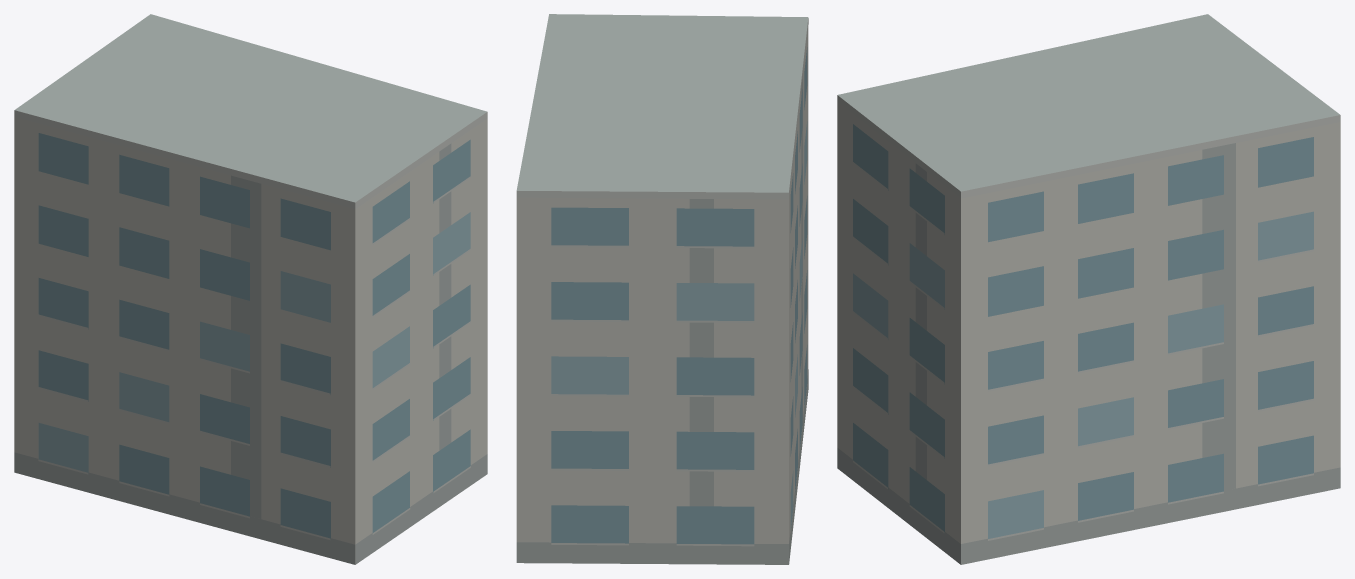
Rendered from survey-upis-32893713.glb.
3 renders of one model, left to right at view 1: azimuth 30°, elevation 25°; view 2: azimuth 150°, elevation 25°; view 3: azimuth 270°, elevation 25°, orthographic. The views are drawn at different scales.
Visible parts, largest first — view 1: survey-upis-32893713.tmp; view 2: survey-upis-32893713.tmp; view 3: survey-upis-32893713.tmp.
Boxes of the visible parts, x1,y1,x2,y2 form: survey-upis-32893713.tmp: (14, 14, 487, 564); survey-upis-32893713.tmp: (516, 14, 808, 564); survey-upis-32893713.tmp: (837, 14, 1340, 564).
Bounding box in the file's own units: 13.53 × 13.25 × 16.2.
